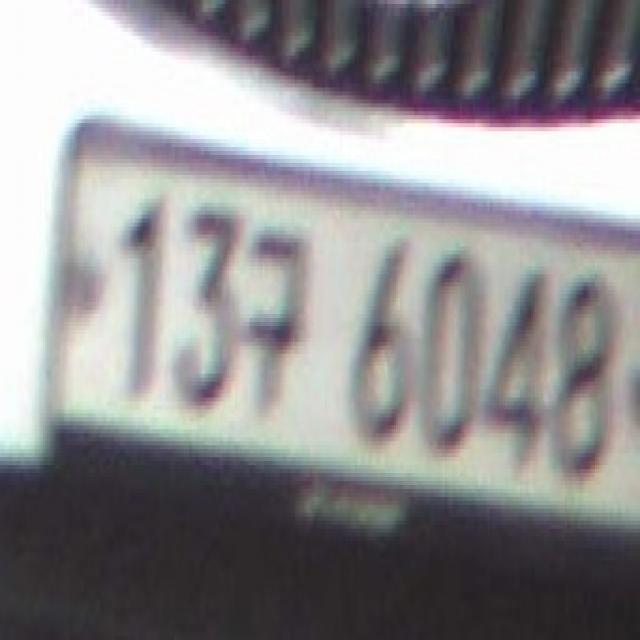0: (418, 235, 490, 473)
1: (109, 183, 173, 413)
3: (178, 195, 246, 417)
4: (482, 254, 560, 501)
6: (342, 219, 424, 457)
8: (550, 270, 629, 485)
gu: (244, 223, 319, 422)
license_plate: (49, 100, 640, 584)
